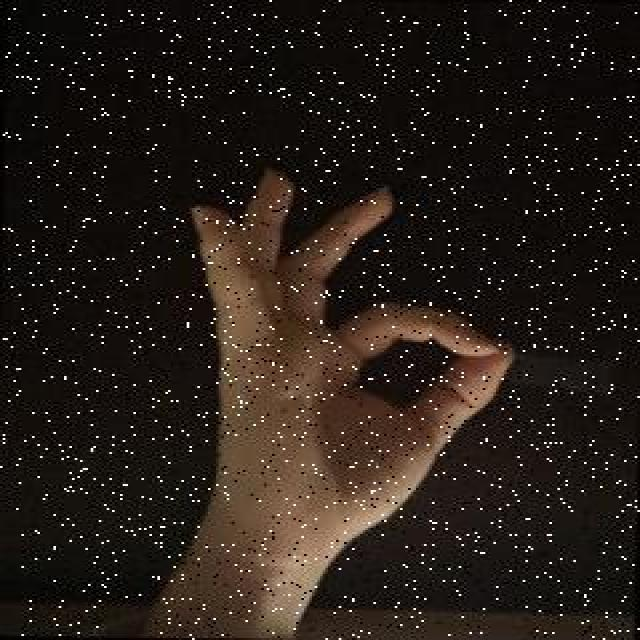F: (178, 160, 522, 538)
